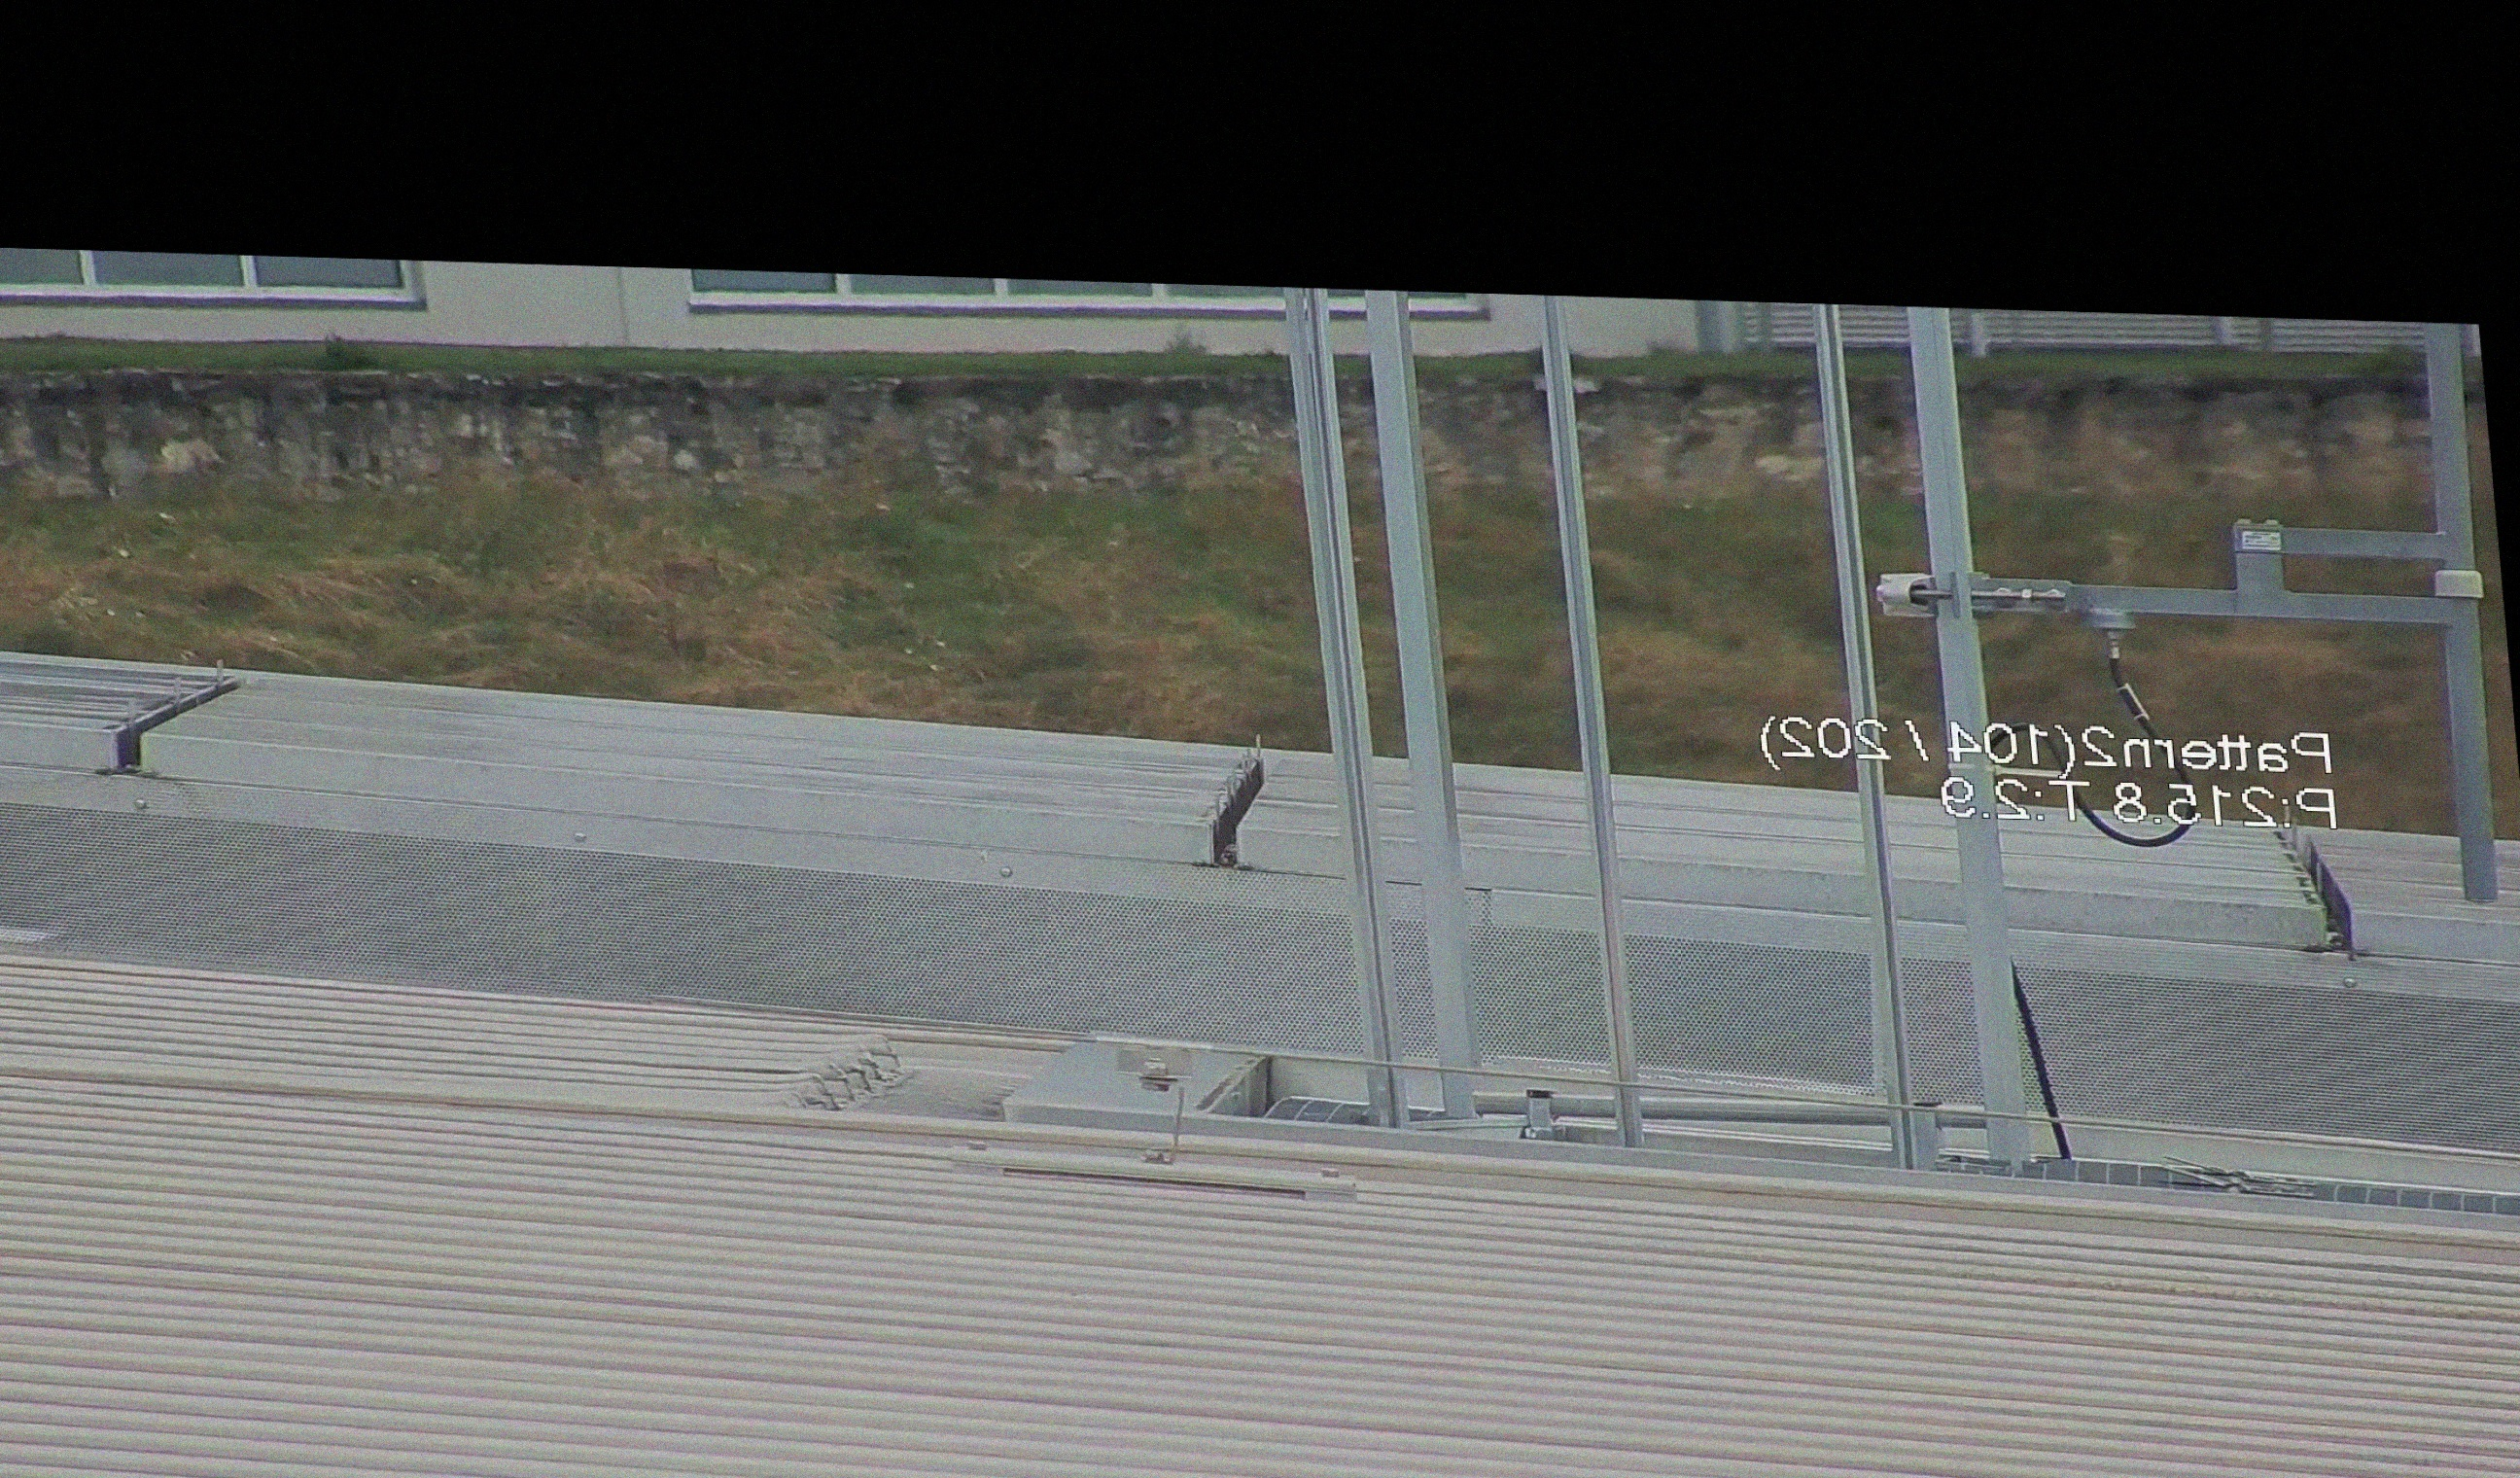Other: (1178, 734, 1294, 869)
